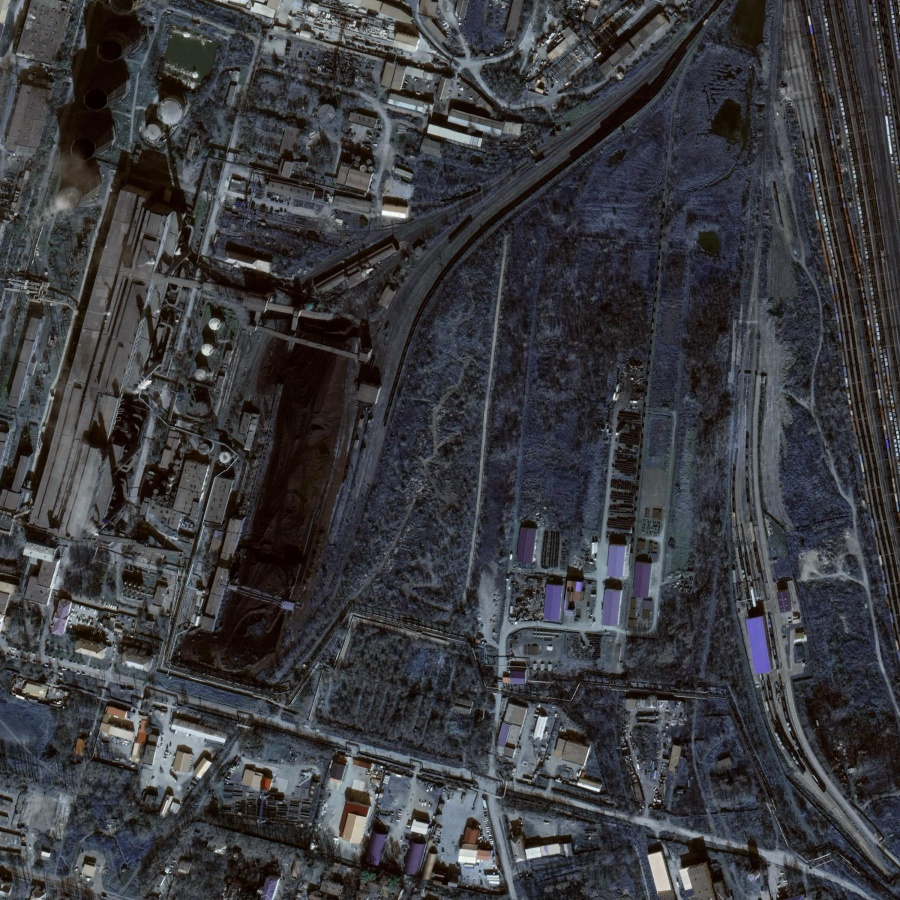PowerPlant: (78, 240, 382, 674)
